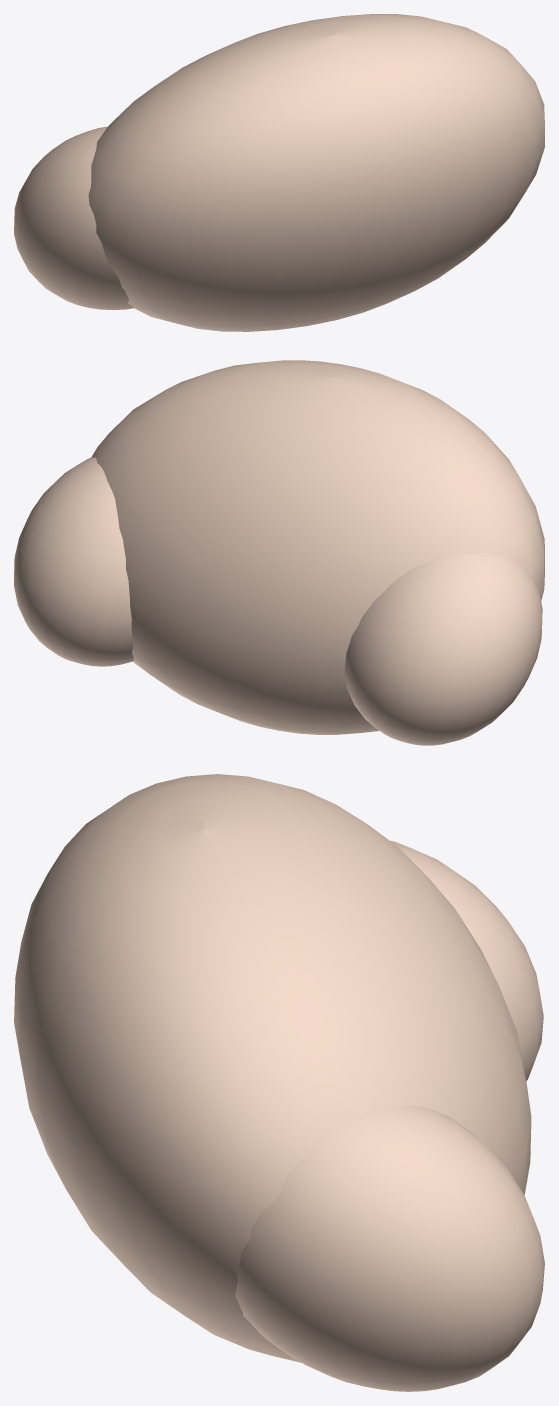
Rendered from male_nose_ref05_v5.glb.
The picture shows the model from 3 angles, top to bottom: view 1: azimuth 30°, elevation 25°; view 2: azimuth 150°, elevation 25°; view 3: azimuth 270°, elevation 25°; orthographic projection. The views are drawn at different scales.
Visible parts, largest first — view 1: Nose_Tip, Nose_Wing_-1; view 2: Nose_Tip, Nose_Wing_-1, Nose_Wing_1; view 3: Nose_Tip, Nose_Wing_1, Nose_Wing_-1.
Boxes of the visible parts, x1=… form: Nose_Tip: x1=88, y1=14, x2=544, y2=331; Nose_Wing_-1: x1=14, y1=126, x2=134, y2=310; Nose_Tip: x1=91, y1=360, x2=544, y2=734; Nose_Wing_-1: x1=344, y1=552, x2=542, y2=745; Nose_Wing_1: x1=14, y1=457, x2=134, y2=666; Nose_Tip: x1=14, y1=774, x2=531, y2=1362; Nose_Wing_1: x1=235, y1=1106, x2=544, y2=1391; Nose_Wing_-1: x1=390, y1=840, x2=543, y2=1080.
Size of the model in its own units: 0.0574 by 0.034 by 0.034.
